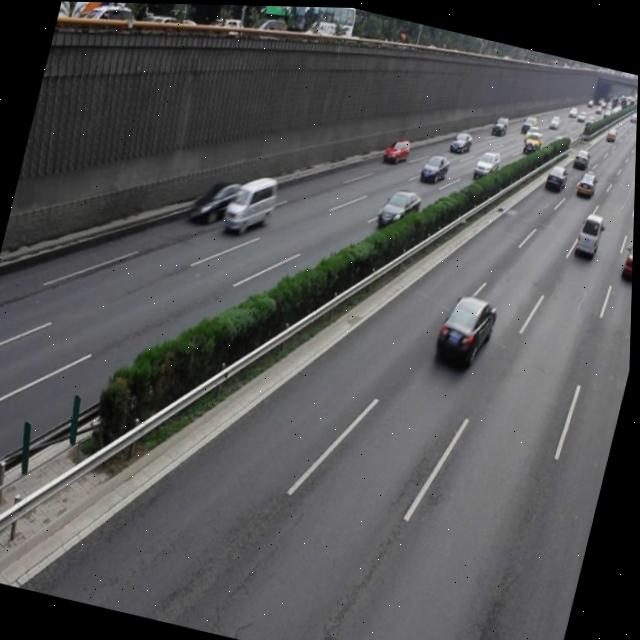car: (432, 285, 501, 367), (187, 170, 245, 228), (375, 182, 422, 231), (619, 235, 635, 280)
truck: (221, 166, 281, 237), (573, 208, 605, 255)
